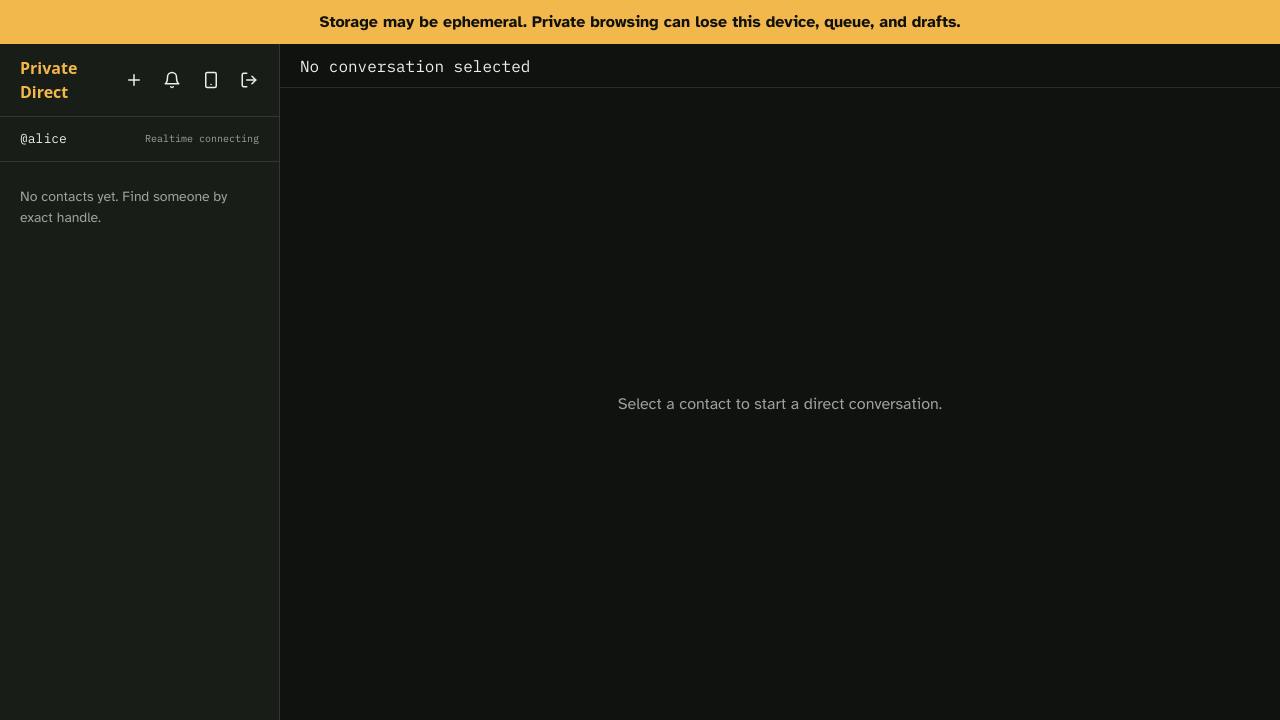
it: contact consent flow › keeps the newest incoming-request refresh when responses arrive out of order
Click the button named "Incoming requests": {"x": 172, "y": 80} 154,62 -> 190,98
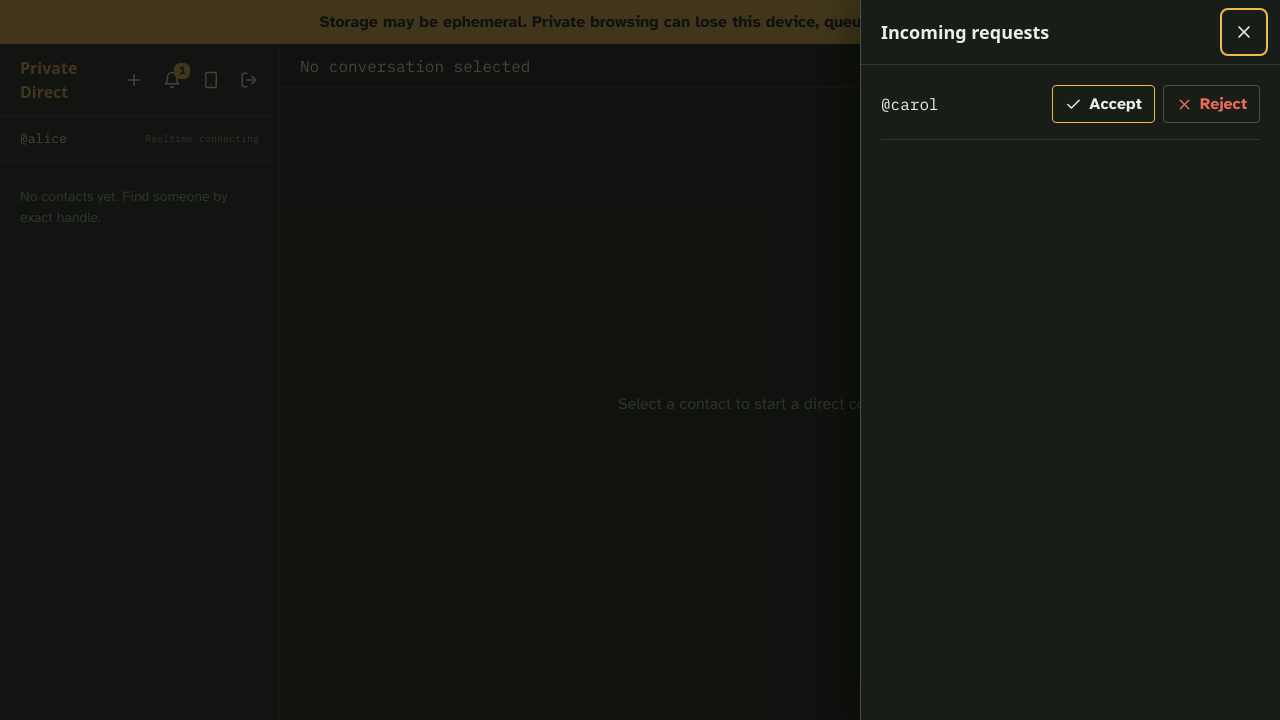
Now the button with aria-label "Accept @carol" is shown, box 1052,85 -> 1155,123
Now the button named "Incoming requests, 1 pending" is shown, box 154,62 -> 190,98
